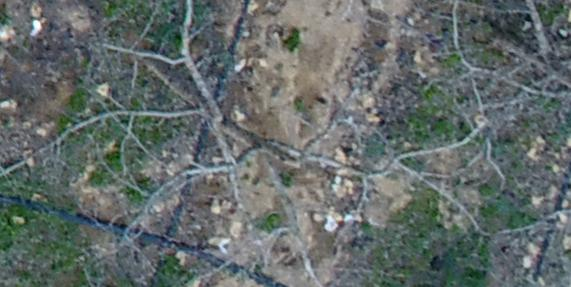apple: (10, 10, 485, 259)
